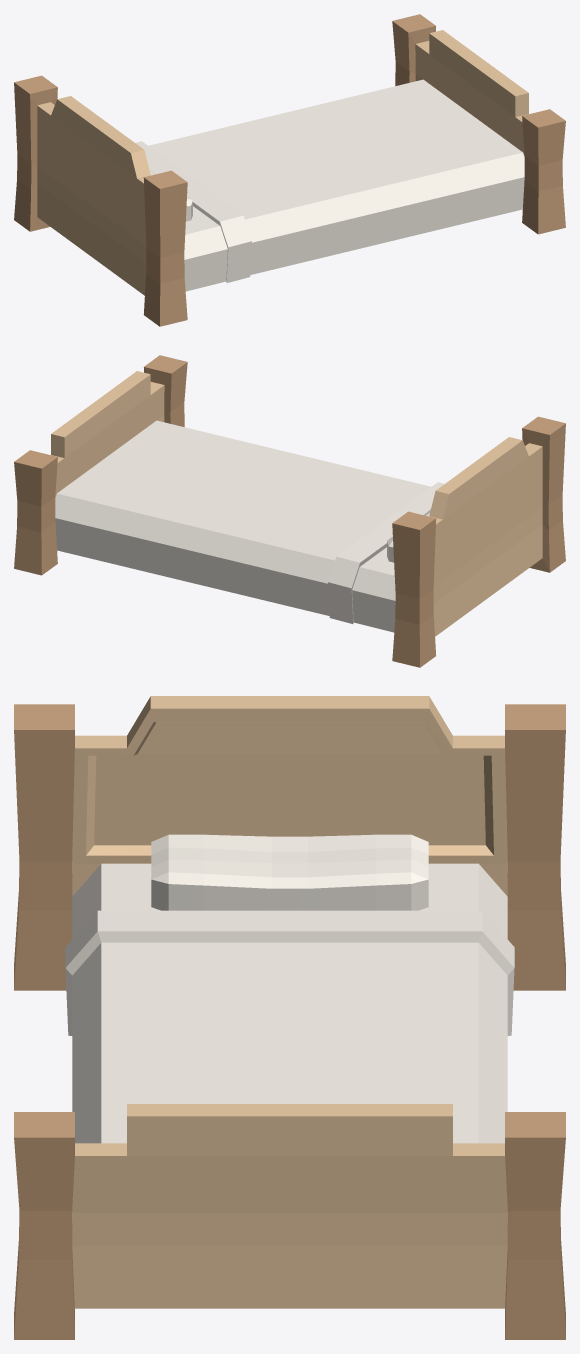
The model's file is bed_single.glb.
The picture shows the model from 3 angles, top to bottom: view 1: azimuth 30°, elevation 25°; view 2: azimuth 150°, elevation 25°; view 3: azimuth 270°, elevation 25°; orthographic projection. The views are drawn at different scales.
Visible parts, largest first — view 1: Bed; view 2: Bed; view 3: Bed.
Boxes of the visible parts, box(x1,y1,x2,y2) form: Bed: box(14, 14, 565, 326); Bed: box(14, 355, 565, 667); Bed: box(14, 696, 565, 1339).
Size of the model in its own units: 1.69 by 0.578 by 1.05.
